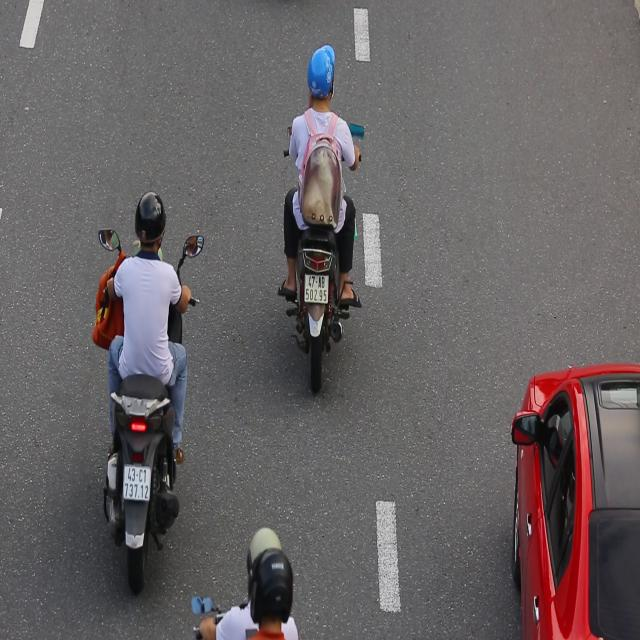motorbike: (86, 187, 205, 604), (279, 34, 370, 399)
